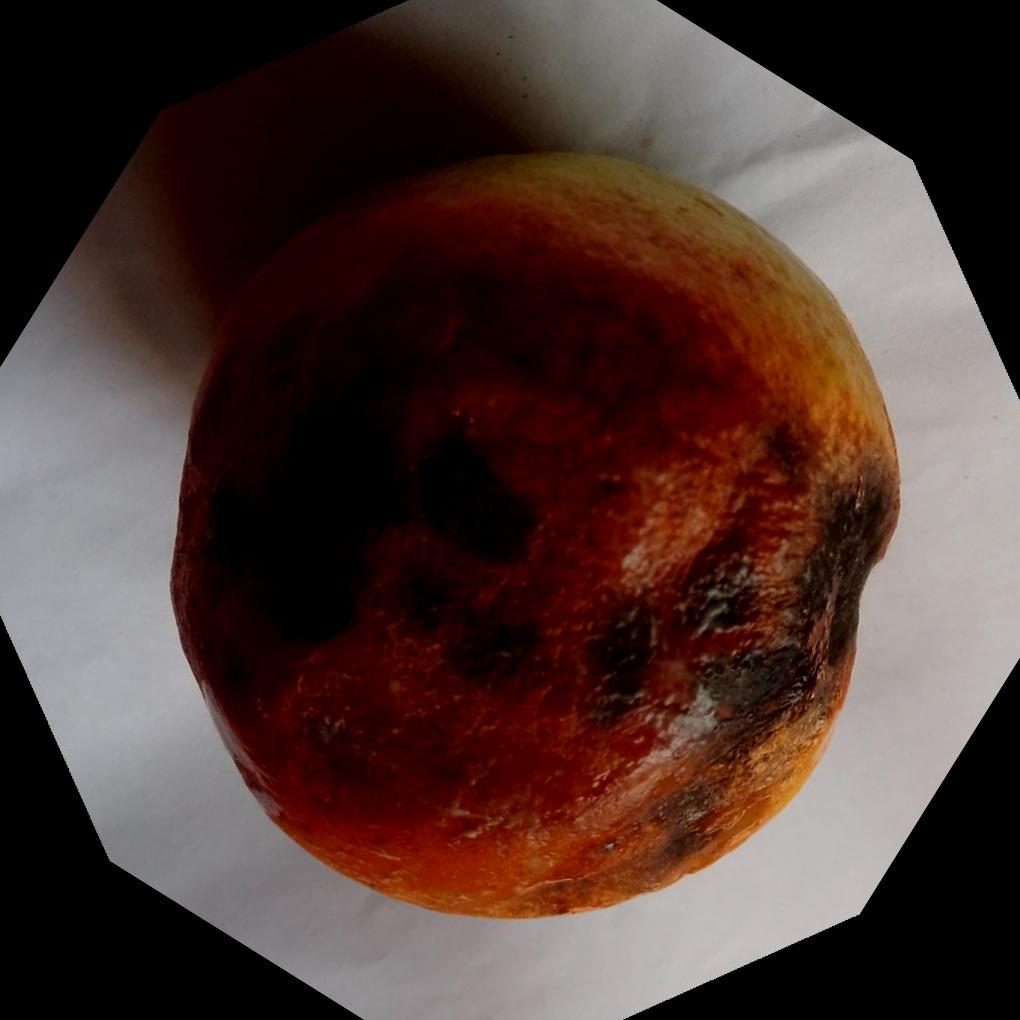FreshOrange: (165, 145, 900, 921)
